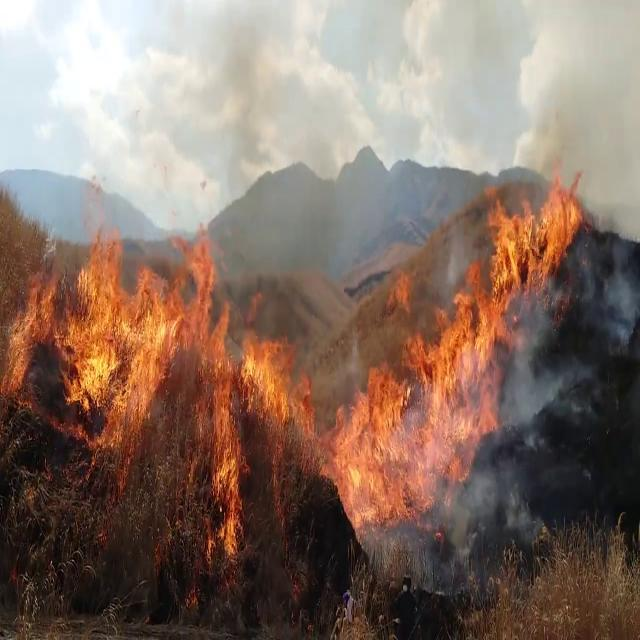Fire: (1, 200, 295, 472), (324, 252, 536, 534), (2, 197, 225, 447), (424, 160, 582, 424)
Smoke: (107, 0, 375, 223)
